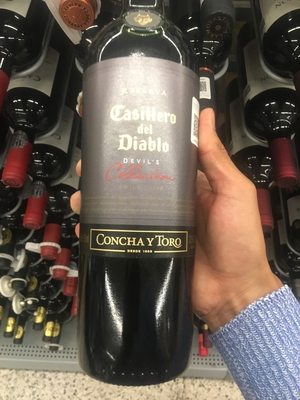casillero del diablo devils collection rojo: (67, 8, 205, 377)
